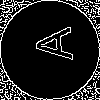A: (25, 25, 74, 63)
